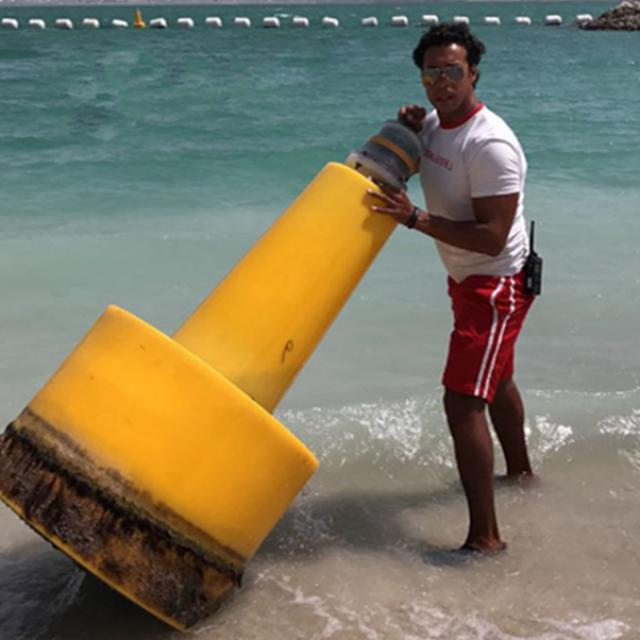buoy: (0, 109, 427, 634)
